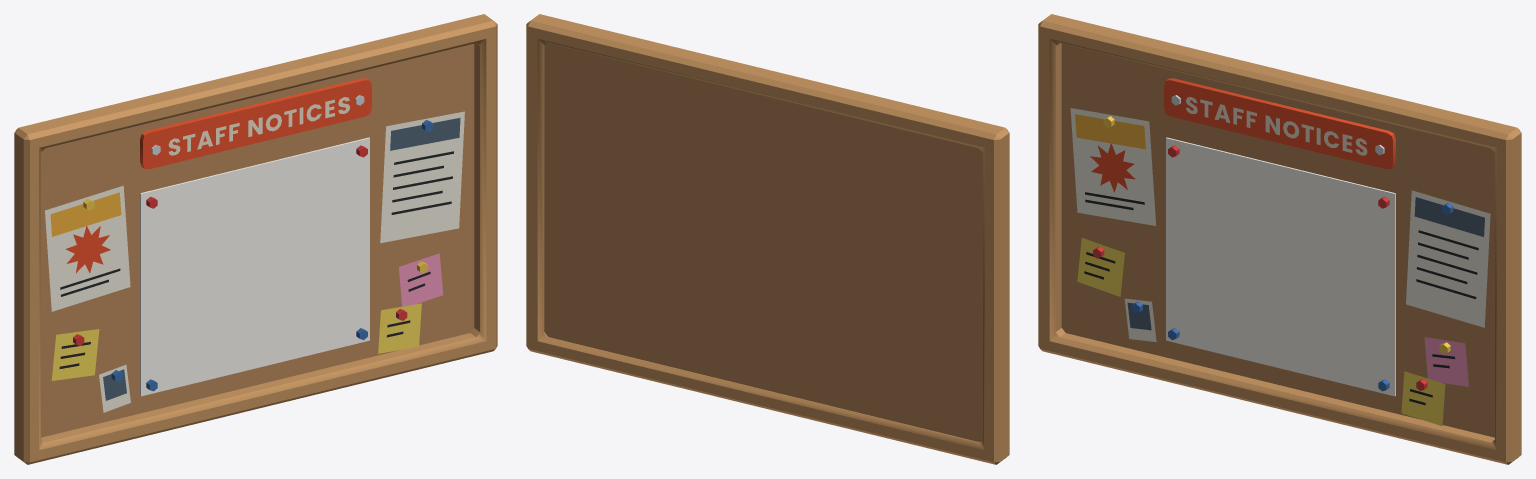
The model's file is Lobby_NoticeBoard.fbx.
The picture shows the model from 3 angles, left to right: view 1: azimuth 30°, elevation 25°; view 2: azimuth 150°, elevation 25°; view 3: azimuth 330°, elevation 25°; orthographic projection.
Parts seen in each view (by area): view 1: Cork, Screen, Frame, Papers, Header, Prints3, Prints4, Ink, HeaderText, Prints5, Prints1, Prints2; view 2: Cork, Frame; view 3: Cork, Screen, Frame, Papers, Header, Prints3, Prints4, Ink, HeaderText, Prints5, Prints1, Prints2.
Boxes of the visible parts, bbox=[...] form: Cork: bbox=[41, 43, 474, 437]; Screen: bbox=[140, 137, 369, 396]; Frame: bbox=[14, 14, 497, 464]; Papers: bbox=[45, 111, 464, 412]; Header: bbox=[140, 78, 371, 169]; Prints3: bbox=[51, 303, 421, 380]; Prints4: bbox=[103, 117, 460, 400]; Ink: bbox=[59, 151, 453, 368]; HeaderText: bbox=[168, 97, 349, 155]; Prints5: bbox=[399, 253, 443, 306]; Prints1: bbox=[50, 192, 121, 236]; Prints2: bbox=[65, 226, 110, 273]; Cork: bbox=[544, 43, 982, 441]; Frame: bbox=[526, 14, 1009, 464]; Cork: bbox=[1061, 43, 1494, 437]; Screen: bbox=[1166, 137, 1395, 396]; Frame: bbox=[1038, 14, 1521, 464]; Papers: bbox=[1070, 108, 1490, 341]; Header: bbox=[1164, 78, 1395, 169]; Prints3: bbox=[1077, 238, 1445, 426]; Prints4: bbox=[1127, 197, 1484, 330]; Ink: bbox=[1084, 192, 1478, 405]; HeaderText: bbox=[1186, 97, 1367, 155]; Prints5: bbox=[1424, 337, 1468, 386]; Prints1: bbox=[1075, 114, 1145, 149]; Prints2: bbox=[1090, 143, 1135, 192].
Bounding box in the file's own units: 600 × 400 × 30.
